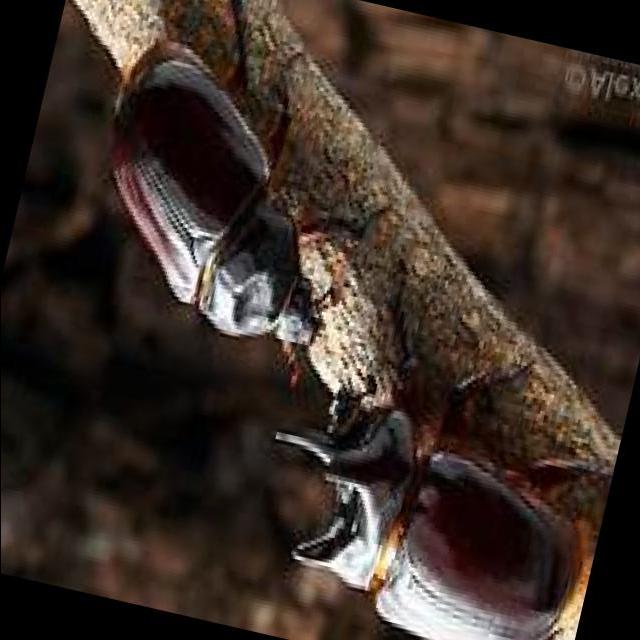Rhino-beetle: (118, 3, 344, 369), (271, 400, 584, 636)
